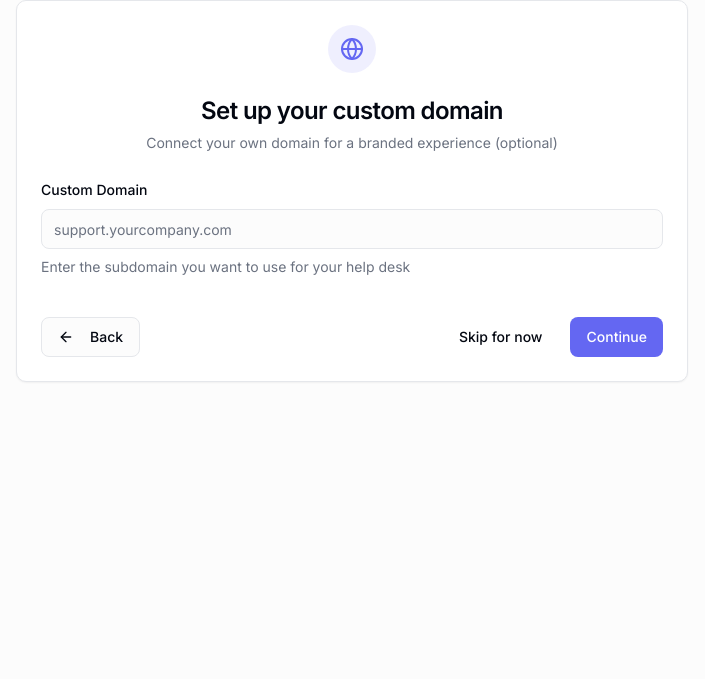
Test case: DomainVerificationStep › domain verification › shows error on verification failure
This screenshot has width=705, height=679.
In the field with placeholder "support.yourcompany.com": (352, 229) x1=41 y1=209 x2=663 y2=249, type "support.test.com"
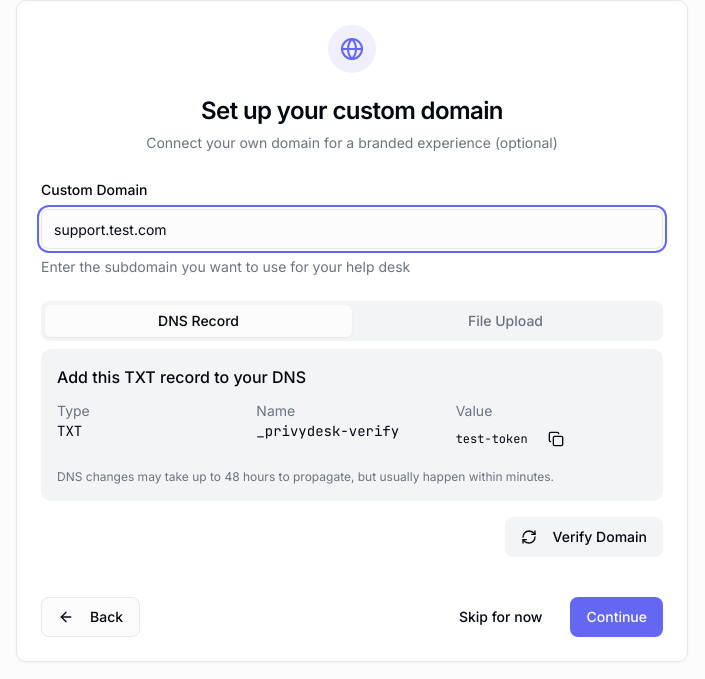
Click the button "Verify Domain": (584, 537) x1=505 y1=517 x2=663 y2=557
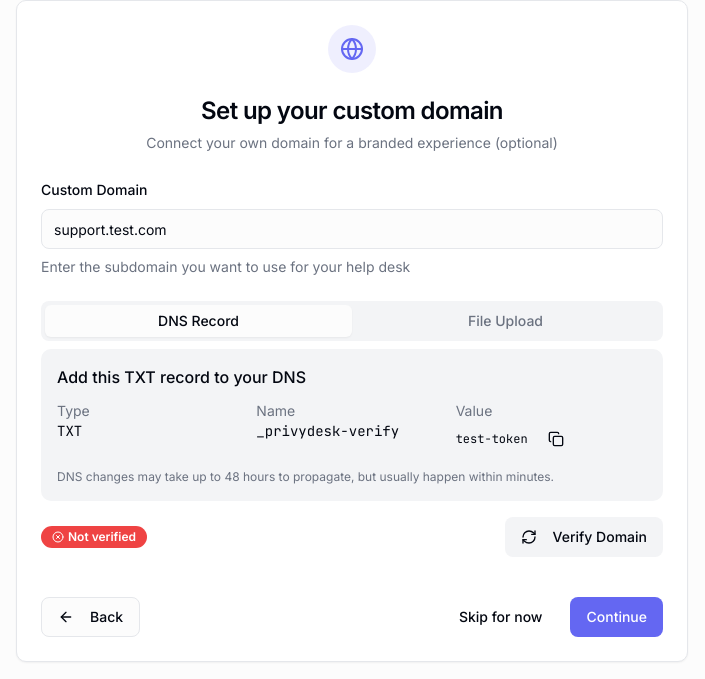
Now the text "Not verified" is shown, box x1=41 y1=526 x2=147 y2=548
